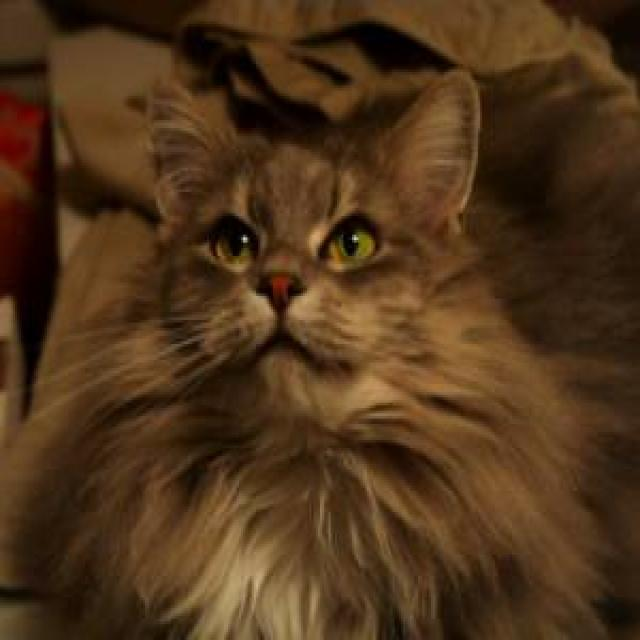Maine_Coon: (134, 55, 492, 432)
